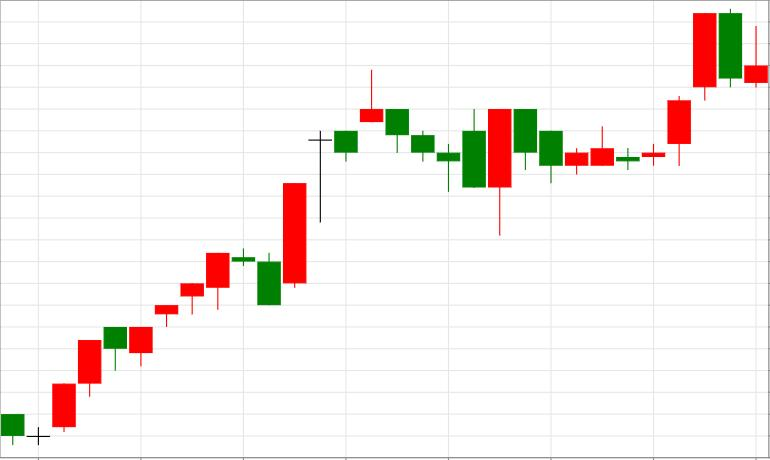bullish_engulfing_rise: (386, 109, 512, 236)
